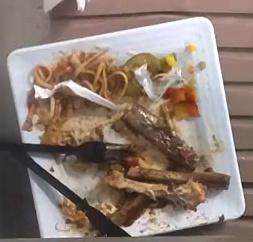asian_noodles: (34, 50, 128, 100)
vegetables: (125, 53, 200, 119)
